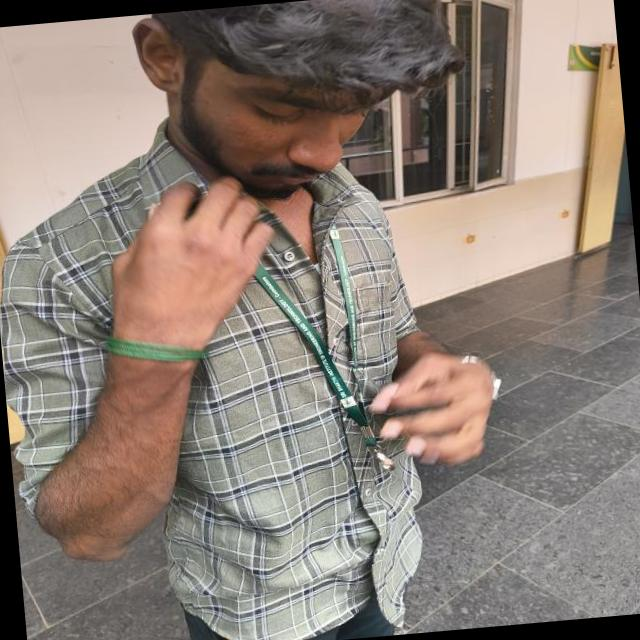id_card: (270, 220, 392, 477)
